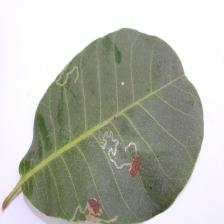leaf miner: (2, 27, 204, 224)
